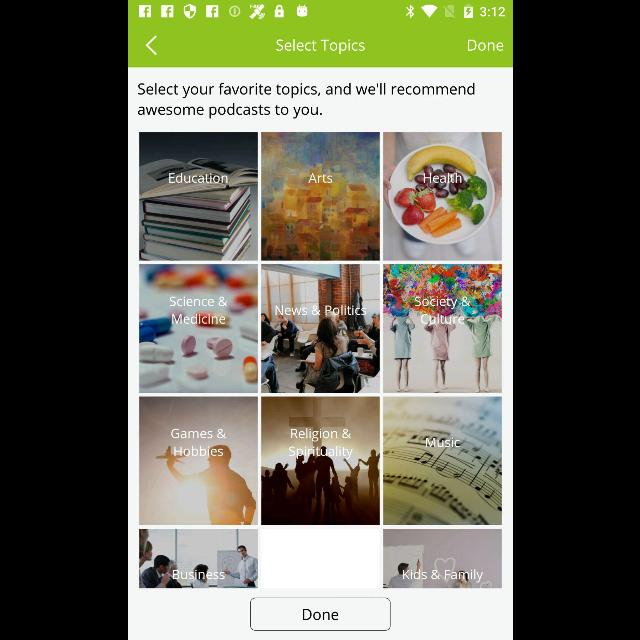icon: (145, 35, 157, 55)
image: (138, 132, 256, 262), (383, 397, 501, 525), (261, 397, 379, 525), (138, 397, 256, 525), (383, 265, 501, 393), (261, 265, 379, 393), (139, 265, 257, 393), (383, 133, 501, 261), (261, 133, 379, 261), (383, 530, 501, 588), (139, 530, 257, 588)
text: (138, 83, 474, 119), (288, 428, 352, 460), (169, 297, 227, 325), (170, 428, 226, 456), (414, 296, 470, 324), (276, 39, 364, 55), (402, 569, 482, 583), (274, 304, 366, 316), (169, 173, 227, 183), (172, 569, 224, 579), (467, 39, 503, 51), (423, 173, 461, 183), (425, 437, 459, 447), (308, 174, 332, 182)
textbutton: (250, 598, 390, 630)
uppertaskbar: (128, 1, 512, 21)
